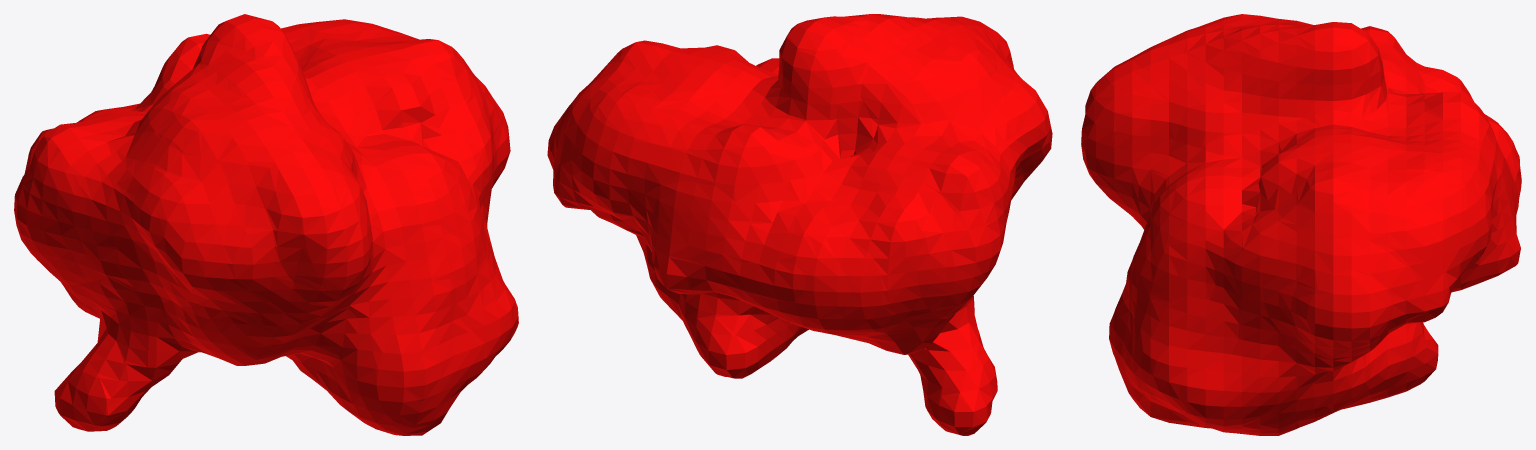
File: nudF_coarse.dae
3 views of the same model, side by side, from view 1: azimuth 30°, elevation 25°; view 2: azimuth 150°, elevation 25°; view 3: azimuth 270°, elevation 25° (orthographic). The views are drawn at different scales.
Parts seen in each view (by area): view 1: nudF; view 2: nudF; view 3: nudF.
Part boxes in pixels (x1,y1,x2,y2): nudF: (14, 14, 518, 435); nudF: (547, 14, 1052, 435); nudF: (1081, 14, 1521, 435).
Size of the model in its own units: 69.43 by 53.74 by 58.74.
